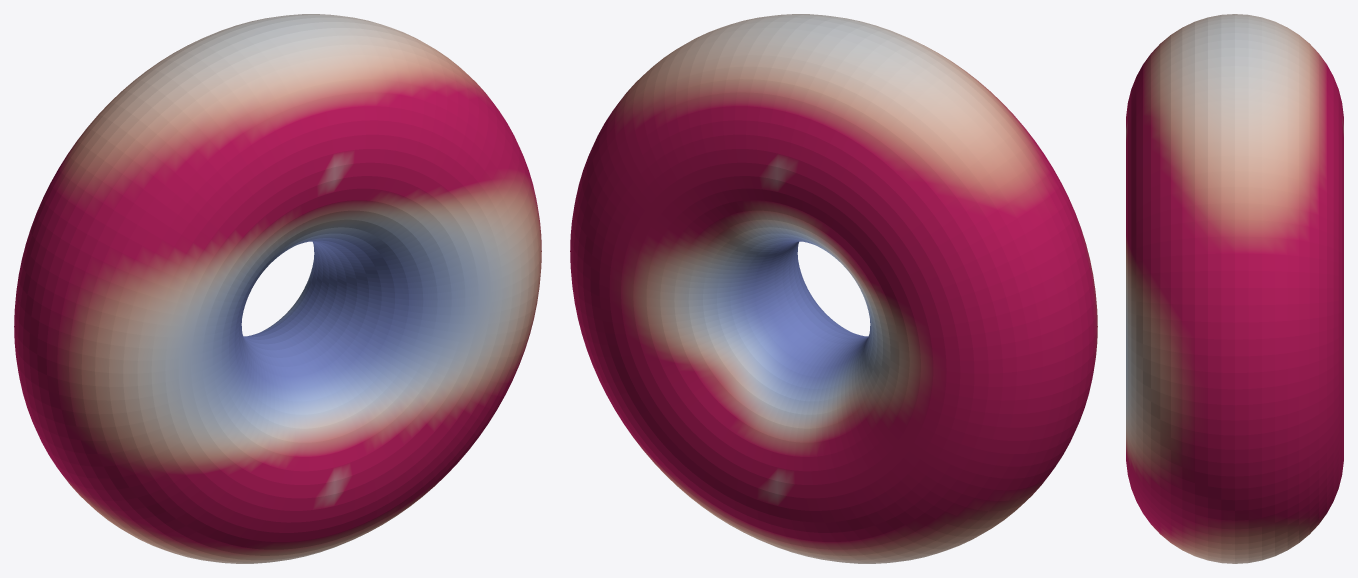
The picture shows the model from 3 angles, left to right: view 1: azimuth 30°, elevation 25°; view 2: azimuth 150°, elevation 25°; view 3: azimuth 270°, elevation 25°; orthographic projection. The views are drawn at different scales.
Visible parts, largest first — view 1: world; view 2: world; view 3: world.
Boxes of the visible parts, x1=… form: world: x1=14, y1=14, x2=541, y2=563; world: x1=570, y1=14, x2=1097, y2=563; world: x1=1126, y1=14, x2=1343, y2=563.
Bounding box in the file's own units: 23.2 × 23.2 × 9.18.
